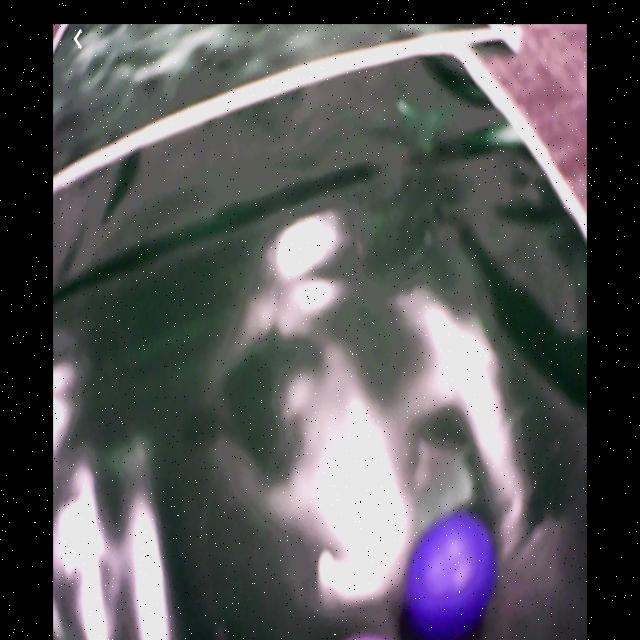ball: (400, 510, 498, 636)
